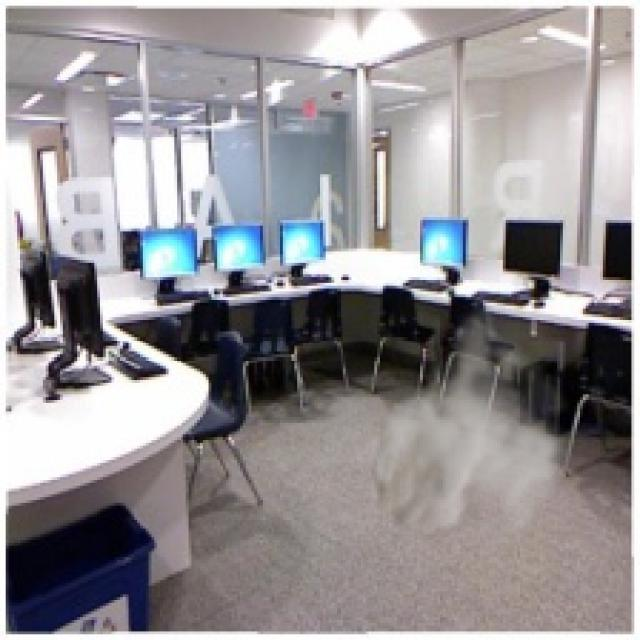Smoke: (352, 297, 574, 566)
